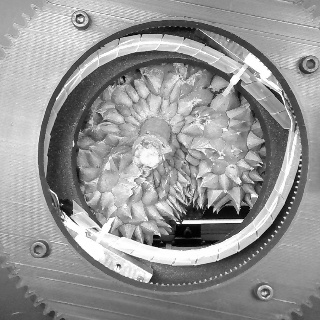base: (137, 111, 174, 142)
end: (139, 143, 160, 169)
